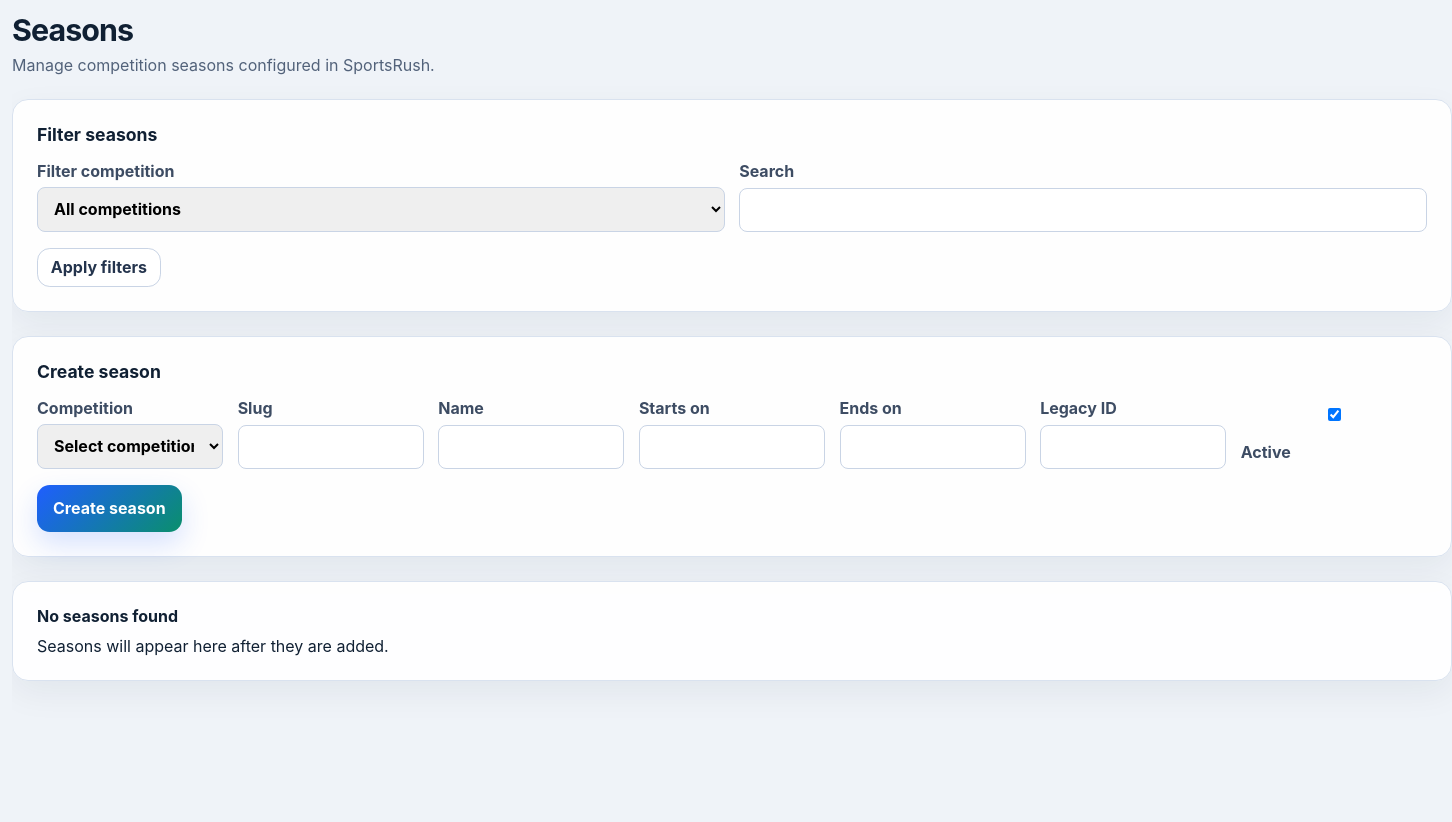
Scenario: SeasonsPage › filters seasons
Expected: the text "No seasons found" is shown, [37,606,178,626]
Select "Super League" in the dropdown labelled "Filter competition" at (381, 209), box [37,187,725,232]
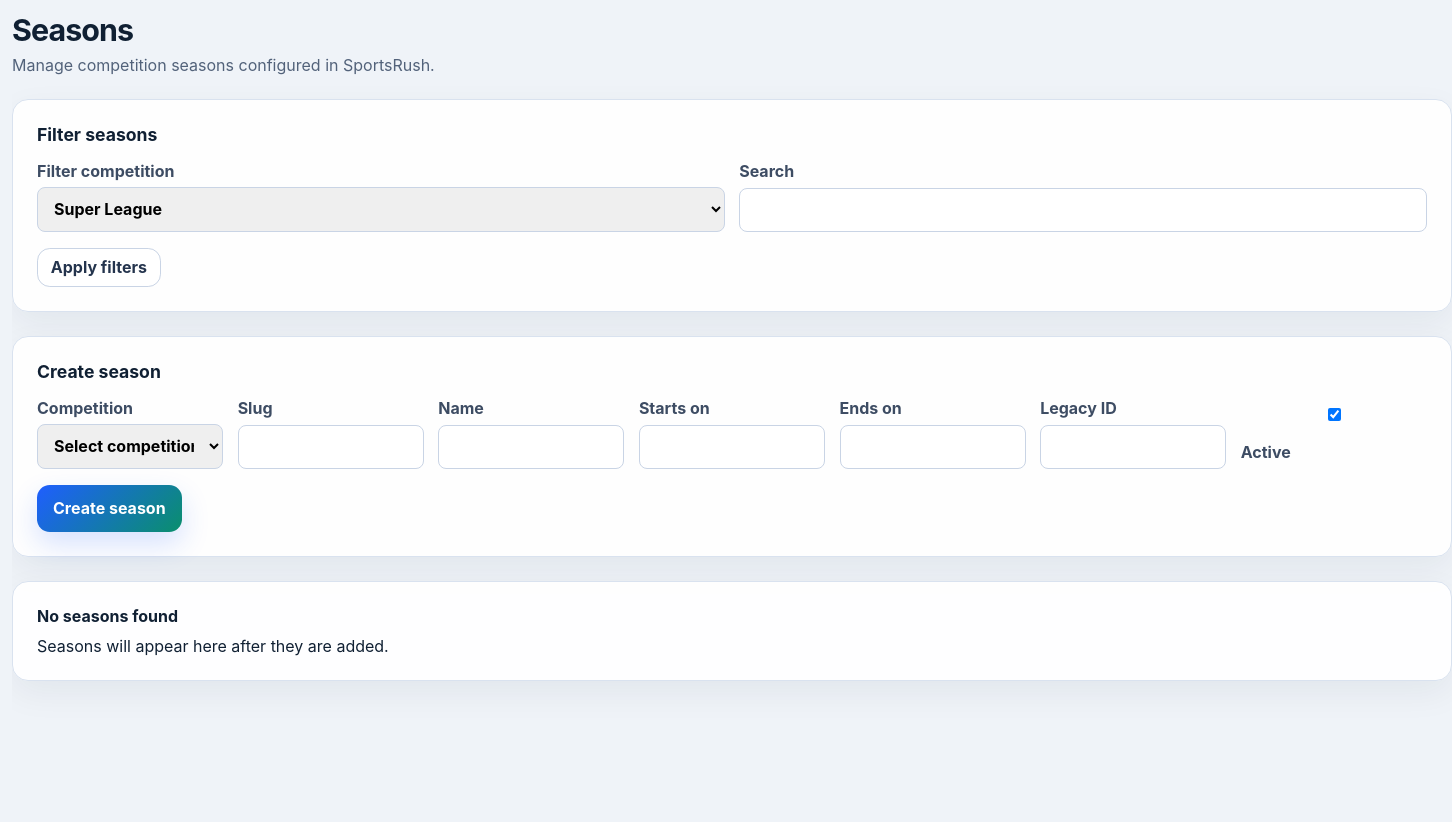
Type "2026" into the field labelled "Search" at (1083, 210), box [739,188,1427,232]
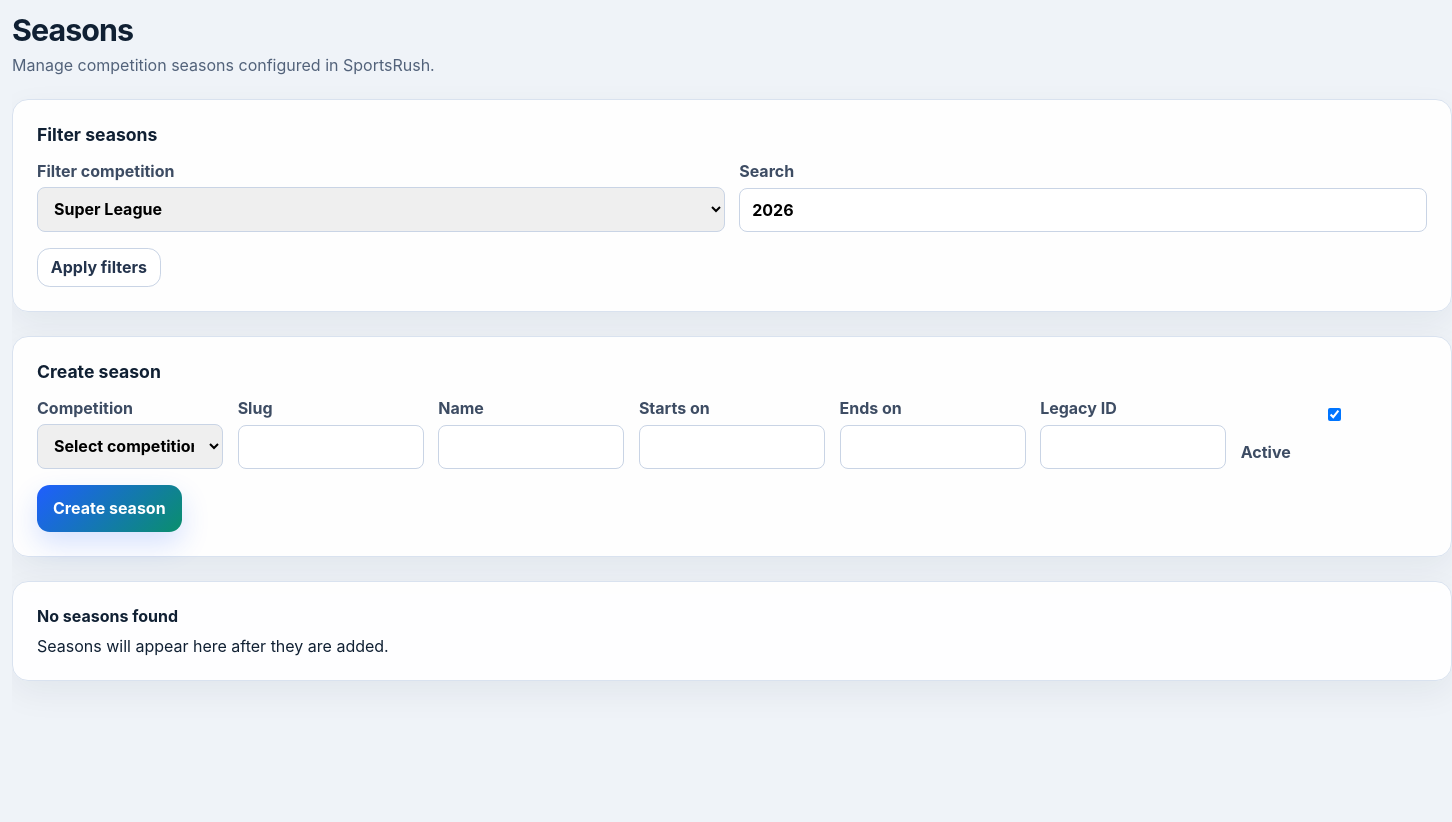
Click the button "Apply filters" at (99, 267), box [37,248,161,287]
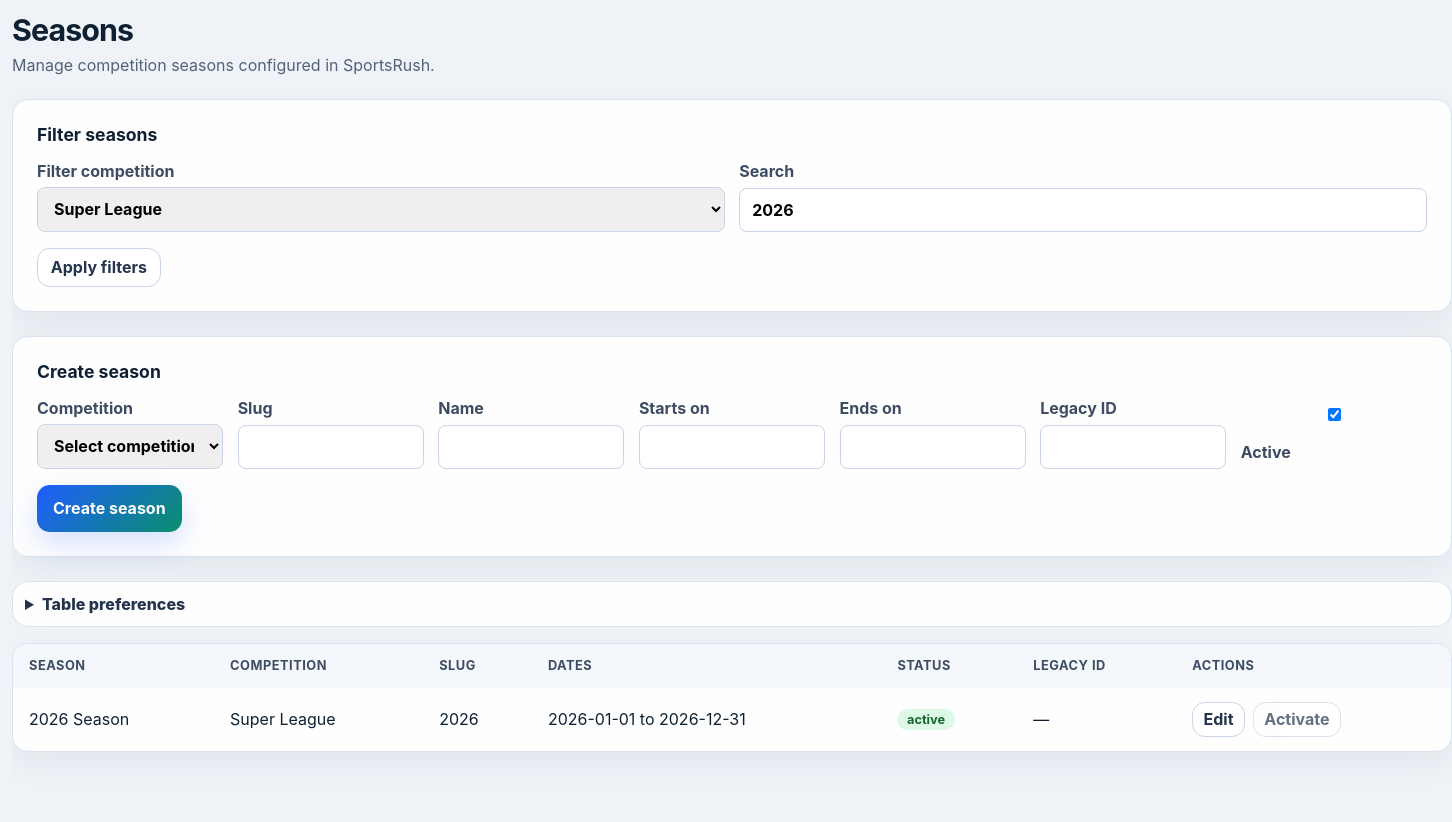
Expected: the cell "2026 Season" is shown, [13,688,214,751]
